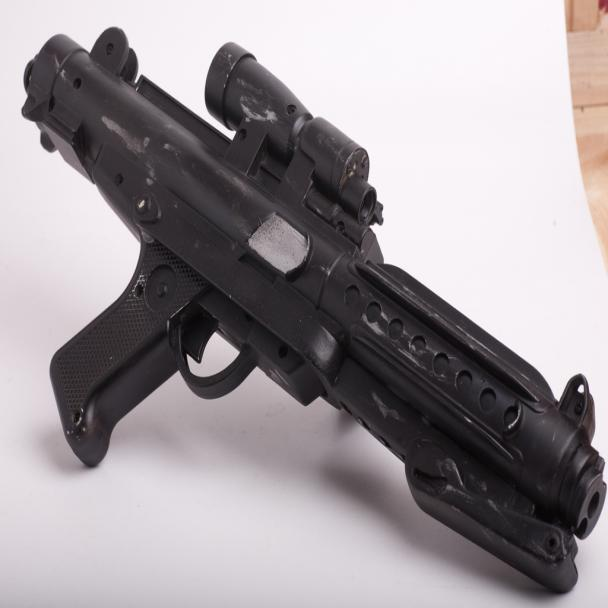Gun: (15, 15, 607, 600)
